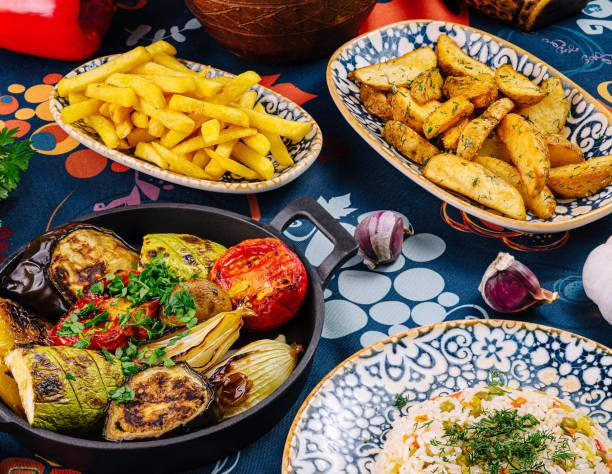Braised Crucian Carp: (2, 197, 356, 468), (325, 18, 607, 234), (50, 51, 321, 194)
